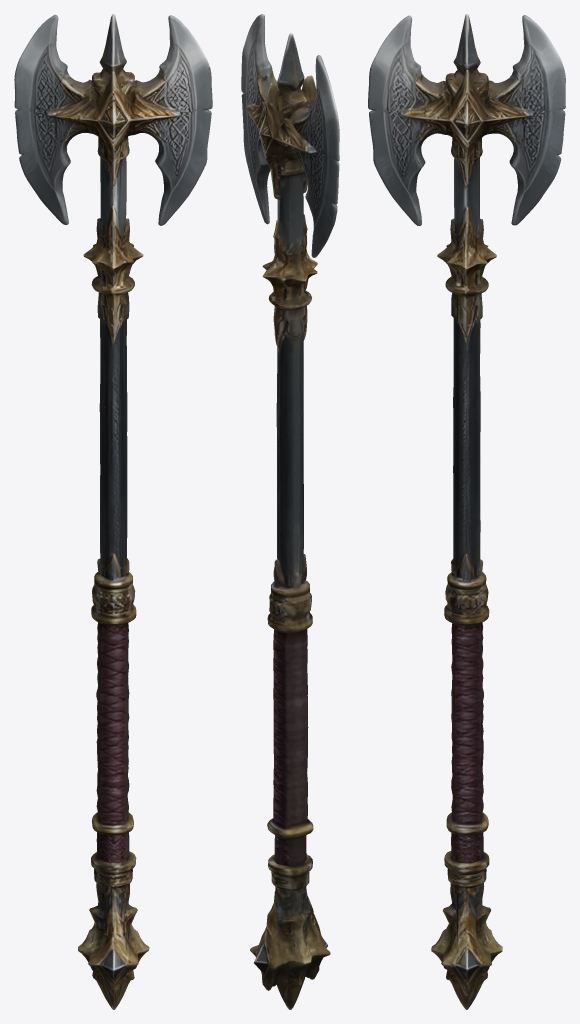
Rendered from brass_greataxe.glb.
3 renders of one model, left to right at view 1: azimuth 90°, elevation 25°; view 2: azimuth 210°, elevation 25°; view 3: azimuth 270°, elevation 25°, orthographic. The views are drawn at different scales.
Visible parts, largest first — view 1: brass_greataxe; view 2: brass_greataxe; view 3: brass_greataxe.
Boxes of the visible parts, x1,y1,x2,y2 form: brass_greataxe: [14, 14, 212, 1009]; brass_greataxe: [241, 14, 339, 1009]; brass_greataxe: [368, 14, 565, 1009].
Bounding box in the file's own units: 0.1078 × 1.37 × 0.2463.
1 material, 1 textured.
